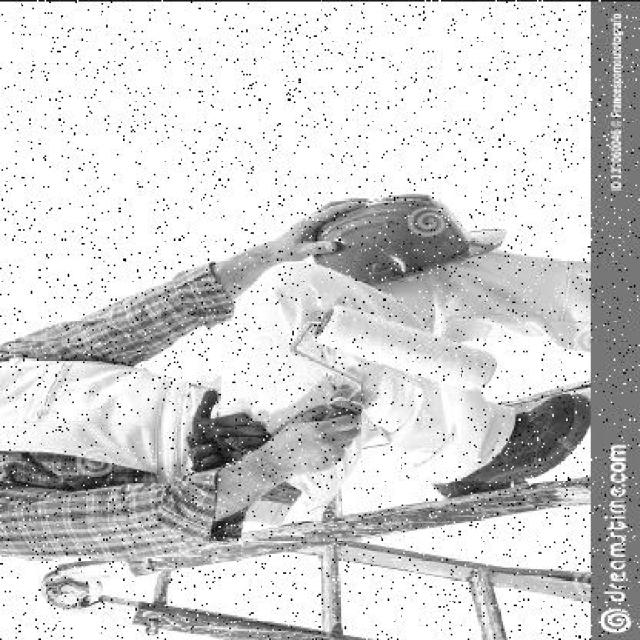shoes: (433, 389, 593, 496)
